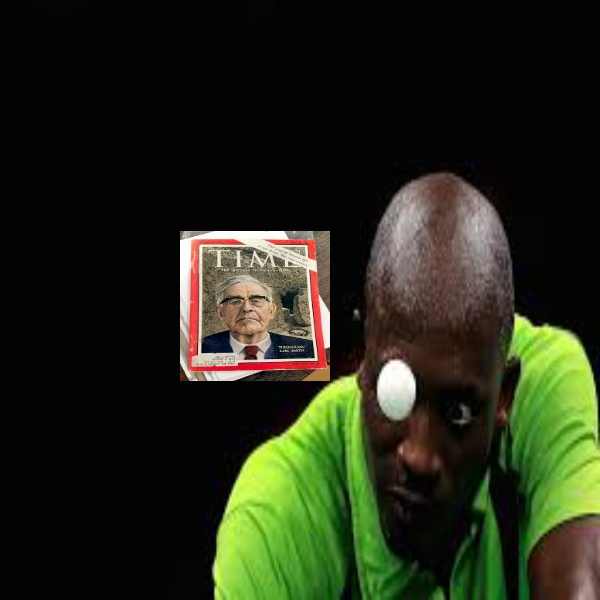time_cover: (182, 227, 328, 386)
